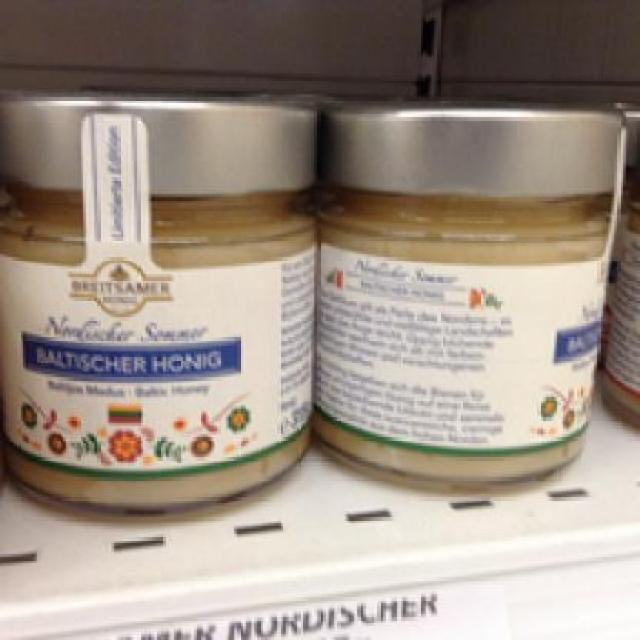Honey: (0, 86, 323, 523), (319, 97, 632, 497)
